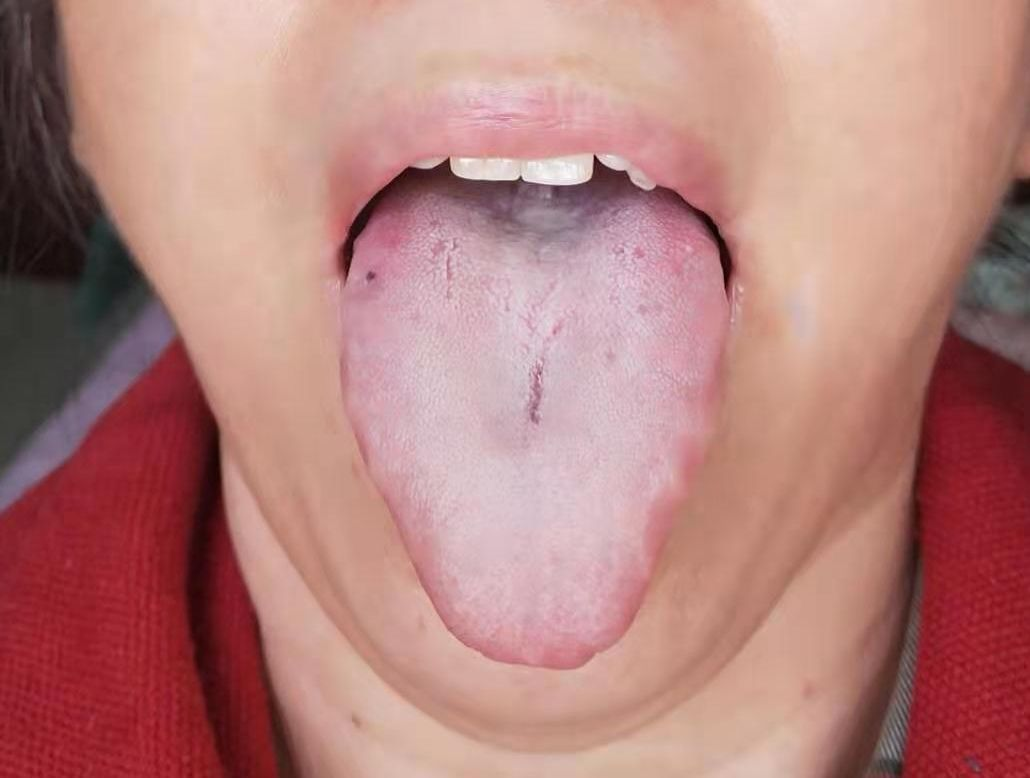baitaishe: (341, 172, 731, 669)
liewenshe: (517, 314, 568, 428)
